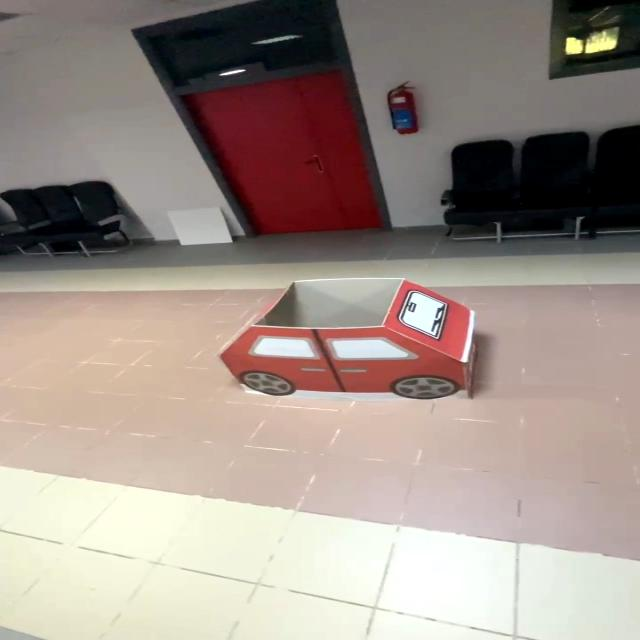red_car: (183, 271, 544, 427)
